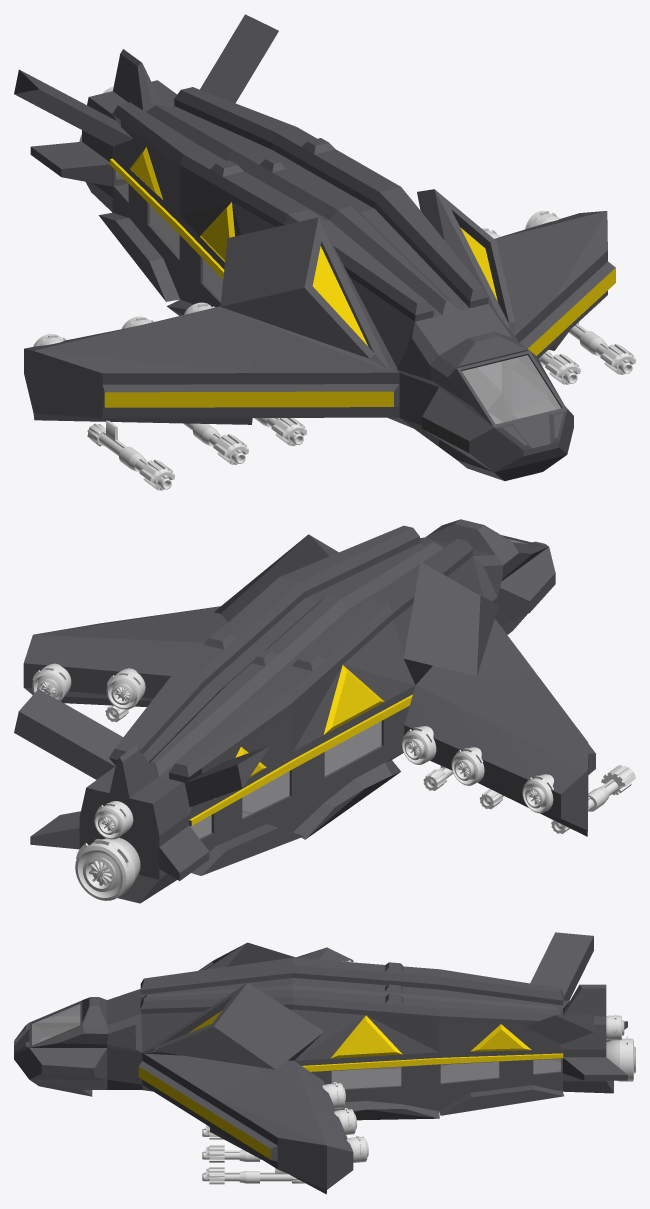
File: Ship_FBX_Recommended.fbx
The picture shows the model from 3 angles, top to bottom: view 1: azimuth 30°, elevation 25°; view 2: azimuth 150°, elevation 25°; view 3: azimuth 270°, elevation 25°; orthographic projection. The views are drawn at different scales.
Visible parts, largest first — view 1: Cube, Tube; view 2: Cube, Thruster_6, Thruster_1, Thruster_7, Thruster_3, Thruster, Thruster_4, Thruster_5, Tube_2; view 3: Cube, Thruster_6, Tube_6, Thruster_7, Thruster, Thruster_2, Thruster_1.
Part boxes in pixels (x1,y1,x2,y2): Cube: (14,14,615,480); Tube: (99,420,171,489); Cube: (14,519,595,903); Thruster_6: (75,837,140,900); Thruster_1: (106,668,145,709); Thruster_7: (94,801,133,839); Thruster_3: (401,726,436,764); Thruster: (32,663,71,700); Thruster_4: (451,747,484,785); Thruster_5: (522,774,553,813); Tube_2: (601,765,635,795); Cube: (14,932,627,1194); Thruster_6: (606,1036,635,1081); Tube_6: (202,1168,291,1181); Thruster_7: (606,1014,624,1040); Thruster: (346,1135,368,1162); Thruster_2: (322,1082,345,1108); Thruster_1: (334,1108,356,1134).
Size of the model in its own units: 1569 by 545 by 2080.
